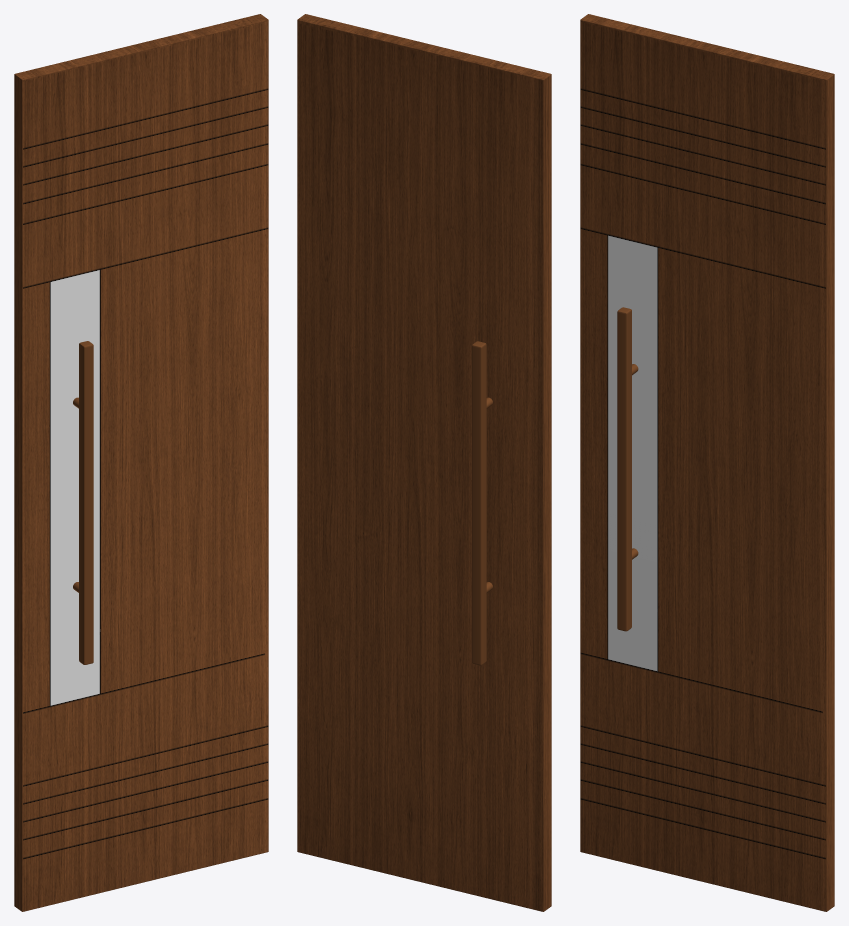
File: VE_6_3b_door.glb
The picture shows the model from 3 angles, left to right: view 1: azimuth 30°, elevation 25°; view 2: azimuth 150°, elevation 25°; view 3: azimuth 330°, elevation 25°; orthographic projection.
Visible parts, largest first — view 1: V_E_6__3b_door_1.001; view 2: V_E_6__3b_door_1.001; view 3: V_E_6__3b_door_1.001.
Boxes of the visible parts, x1,y1,x2,y2 form: V_E_6__3b_door_1.001: [14, 14, 268, 911]; V_E_6__3b_door_1.001: [297, 14, 551, 911]; V_E_6__3b_door_1.001: [580, 14, 834, 911].
Bounding box in the file's own units: 0.5468 × 1.76 × 0.1306.
1 material, 1 textured.
